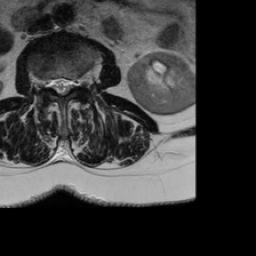CCS_normal: (58, 70, 65, 100)
LFS_normal: (73, 69, 81, 92)
LLS_normal: (65, 72, 72, 98)
RFS_normal: (41, 72, 50, 94)
RLS_normal: (50, 72, 58, 97)
